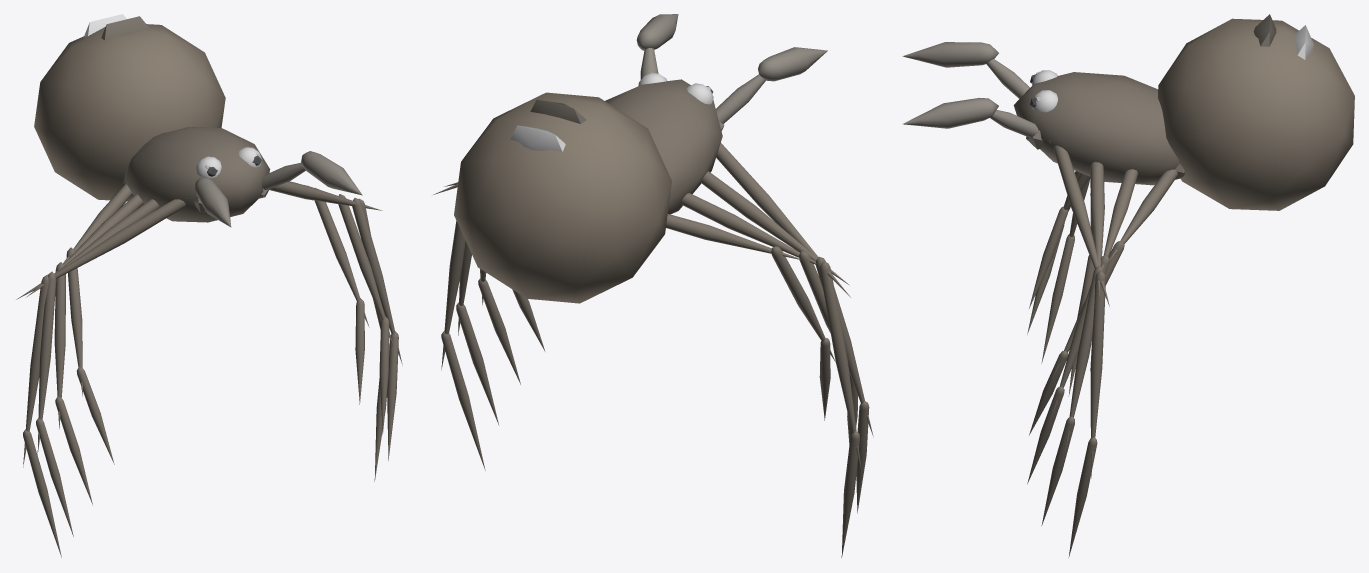
The model's file is eriovixia-laglaizei.glb.
3 renders of one model, left to right at view 1: azimuth 30°, elevation 25°; view 2: azimuth 150°, elevation 25°; view 3: azimuth 270°, elevation 25°, orthographic. The views are drawn at different scales.
Parts seen in each view (by area): view 1: abdomen, cephalothorax, leg0-r0, leg1-r0, leg2-r0, leg3-r0, leg1-l0, leg2-l0, leg3-l0, leg0-l0, palp-l1, palp-r1 (+1 smaller); view 2: abdomen, cephalothorax, leg0-r0, leg1-r0, leg3-r0, leg2-r0, leg0-l0, leg1-l0, palp-r1, palp-l1, leg2-l0, palp-r0; view 3: abdomen, cephalothorax, leg0-l0, leg1-l0, leg2-l0, leg3-l0, palp-l1, palp-r1, leg1-r0, leg3-r0, palp-r0, palp-l0.
Part boxes in pixels (left/top/right/bottom): abdomen: left=34, top=14, right=225, bottom=201; cephalothorax: left=123, top=127, right=270, bottom=222; leg0-r0: left=16, top=199, right=185, bottom=557; leg1-r0: left=25, top=199, right=159, bottom=536; leg2-r0: left=41, top=194, right=143, bottom=504; leg3-r0: left=63, top=183, right=132, bottom=464; leg1-l0: left=289, top=181, right=402, bottom=460; leg2-l0: left=338, top=194, right=393, bottom=434; leg3-l0: left=314, top=188, right=369, bottom=404; leg0-l0: left=269, top=181, right=389, bottom=481; palp-l1: left=301, top=151, right=362, bottom=195; palp-r1: left=194, top=177, right=231, bottom=227; abdomen: left=454, top=92, right=671, bottom=303; cephalothorax: left=605, top=79, right=724, bottom=214; leg0-r0: left=716, top=143, right=861, bottom=557; leg1-r0: left=701, top=171, right=873, bottom=513; leg3-r0: left=666, top=214, right=835, bottom=420; leg2-r0: left=681, top=193, right=857, bottom=444; leg0-l0: left=433, top=184, right=485, bottom=470; leg1-l0: left=444, top=182, right=499, bottom=425; palp-r1: left=758, top=47, right=827, bottom=81; palp-l1: left=636, top=14, right=678, bottom=50; leg2-l0: left=478, top=269, right=520, bottom=384; palp-r0: left=716, top=56, right=785, bottom=123; abdomen: left=1158, top=14, right=1354, bottom=210; cephalothorax: left=1013, top=72, right=1184, bottom=185; leg0-l0: left=1053, top=145, right=1109, bottom=557; leg1-l0: left=1041, top=162, right=1104, bottom=525; leg2-l0: left=1027, top=169, right=1138, bottom=484; leg3-l0: left=1029, top=169, right=1177, bottom=435; palp-l1: left=902, top=97, right=998, bottom=128; palp-r1: left=902, top=42, right=998, bottom=67; leg1-r0: left=1041, top=178, right=1090, bottom=363; leg3-r0: left=1029, top=173, right=1090, bottom=308; palp-r0: left=986, top=59, right=1029, bottom=98; palp-l0: left=990, top=110, right=1038, bottom=137.
Size of the model in its own units: 0.4906 by 0.5468 by 0.4925.
